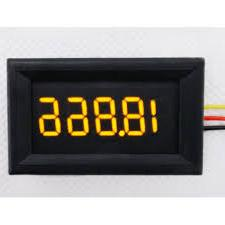.: (119, 131, 125, 137)
1: (149, 98, 159, 134)
6: (39, 97, 61, 137), (67, 96, 88, 137)
8: (93, 97, 117, 137), (123, 96, 146, 136)
